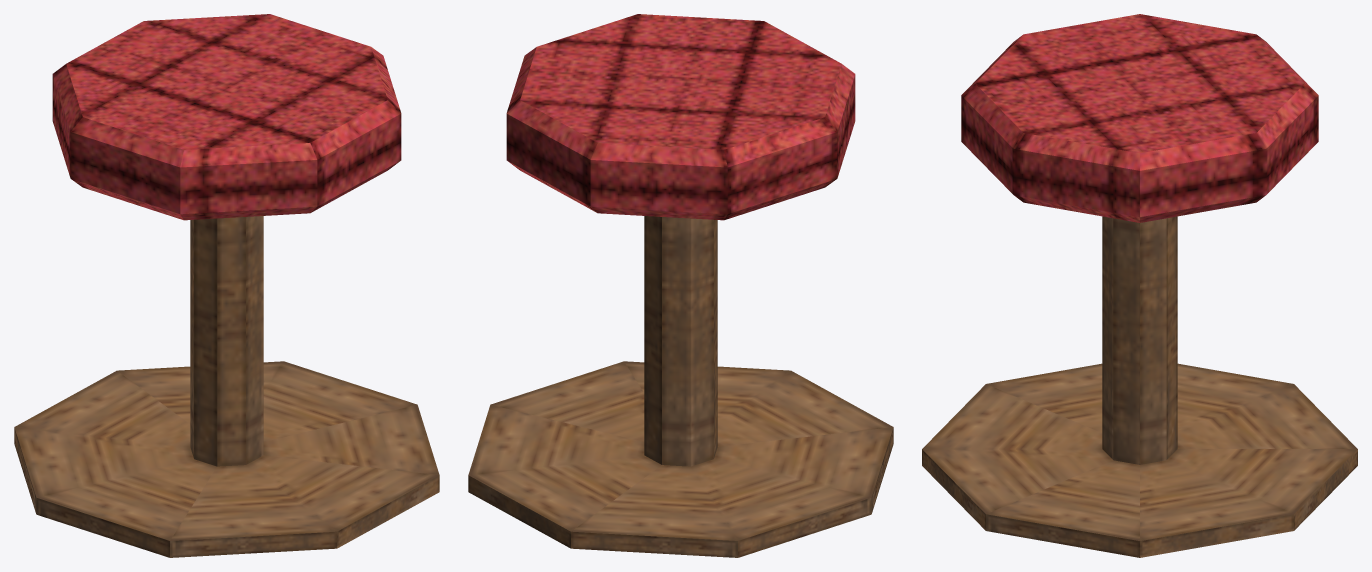
Rendered from stool.fbx.
The picture shows the model from 3 angles, left to right: view 1: azimuth 30°, elevation 25°; view 2: azimuth 150°, elevation 25°; view 3: azimuth 270°, elevation 25°; orthographic projection.
Parts seen in each view (by area): view 1: stool; view 2: stool; view 3: stool.
Part boxes in pixels (x1,y1,x2,y2): stool: (14, 14, 439, 557); stool: (468, 14, 893, 557); stool: (922, 14, 1357, 557).
Bounding box in the file's own units: 81.47 × 78.84 × 81.47.
